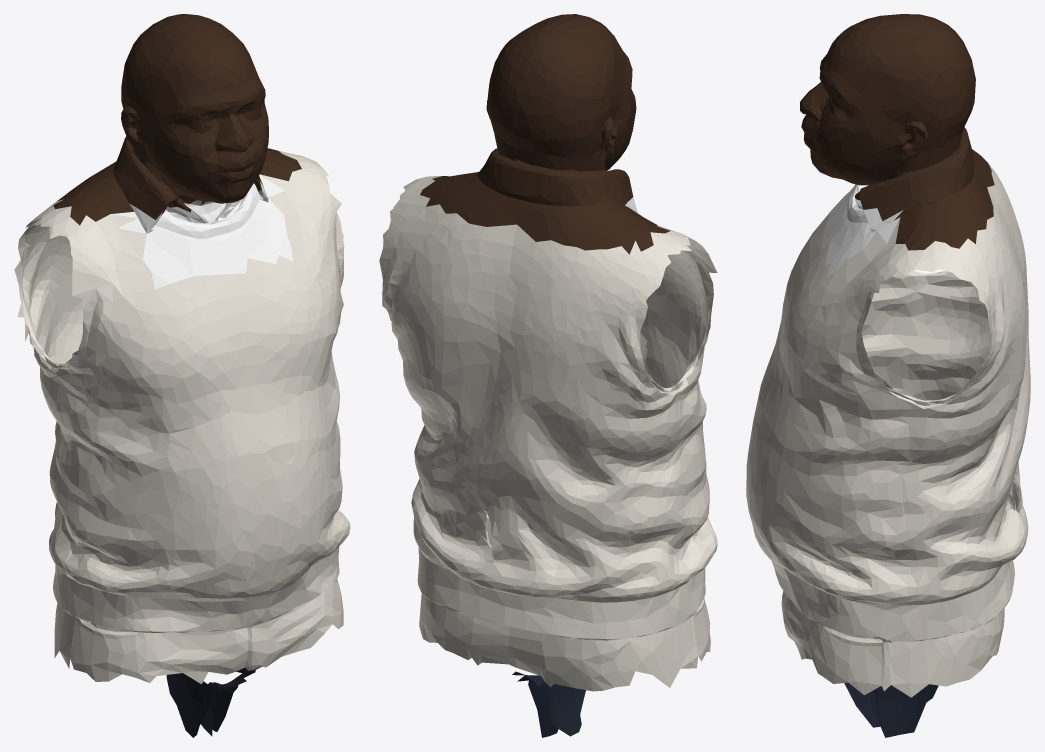
File: prof_boss_torso.obj
The picture shows the model from 3 angles, left to right: view 1: azimuth 30°, elevation 25°; view 2: azimuth 150°, elevation 25°; view 3: azimuth 270°, elevation 25°; orthographic projection.
Parts seen in each view (by area): view 1: BossProf.001; view 2: BossProf.001; view 3: BossProf.001.
Boxes of the visible parts, <box> form: BossProf.001: <box>14,14,350,737</box>; BossProf.001: <box>379,14,717,737</box>; BossProf.001: <box>746,14,1030,737</box>.
Bounding box in the file's own units: 0.6328 × 1.55 × 0.5595.
